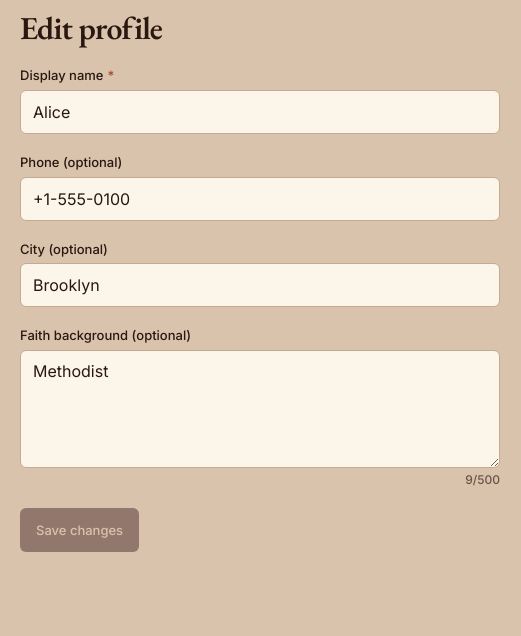
Scenario: ProfilePage — /settings/profile › shows error banner when PATCH fails
The width and height of the screenshot is (521, 636).
Step 1. Replace the text in the field labelled "Display name*" with "Alicia" → [260, 112], box top-left (20, 90), bottom-right (500, 134)
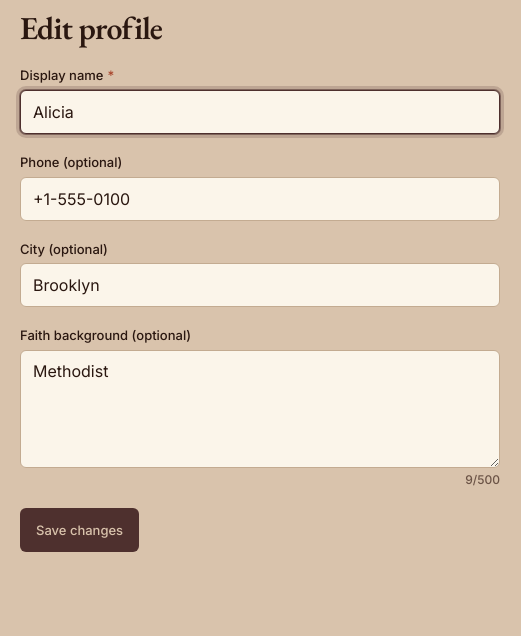
Step 2. Click the button "Save changes" → [80, 530], box top-left (20, 508), bottom-right (139, 552)
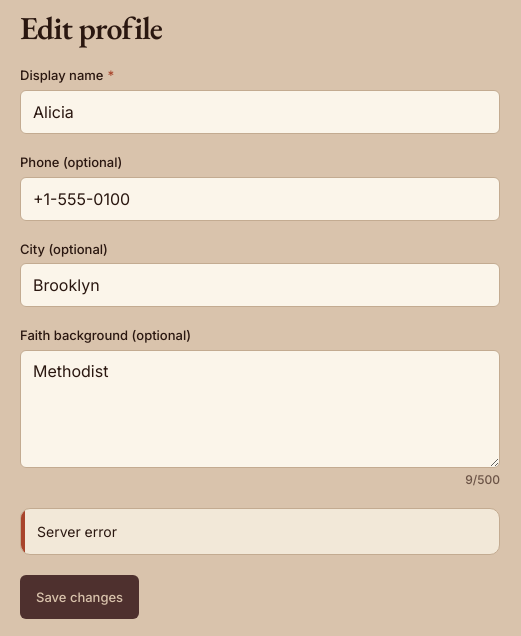
Now the text "Server error" is shown, box top-left (37, 523), bottom-right (117, 540)
